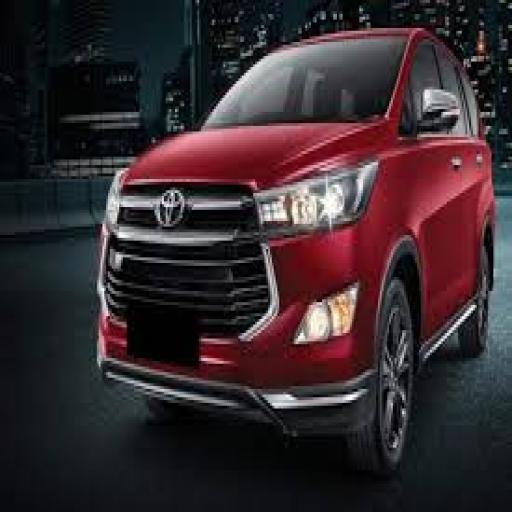car: (101, 24, 500, 508)
